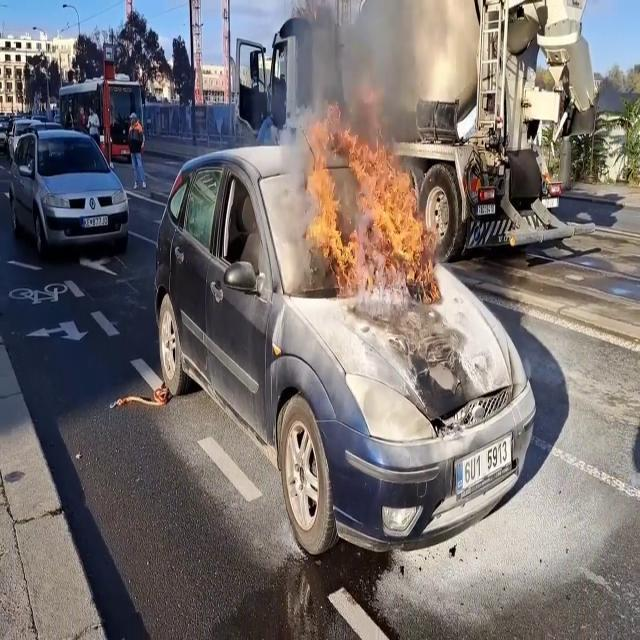Fire: (310, 114, 431, 302)
Smoke: (294, 0, 467, 125)
